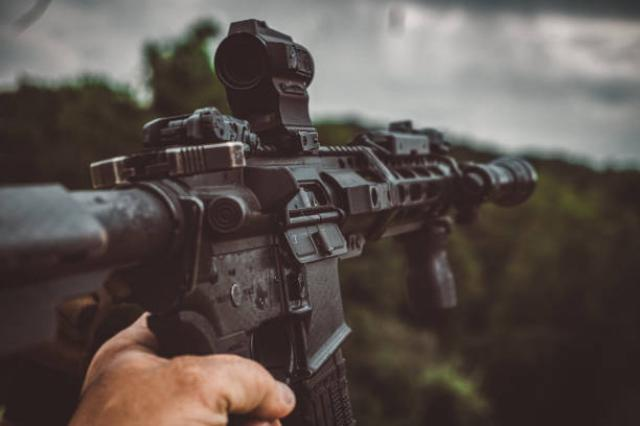other: (0, 297, 346, 423)
